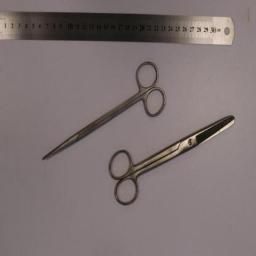Dressing Scissors: (107, 115, 235, 207)
